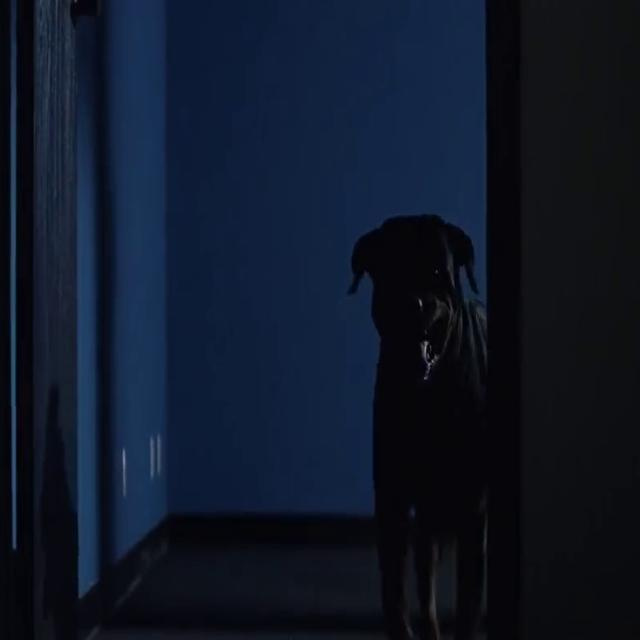dog: (358, 148, 532, 585)
